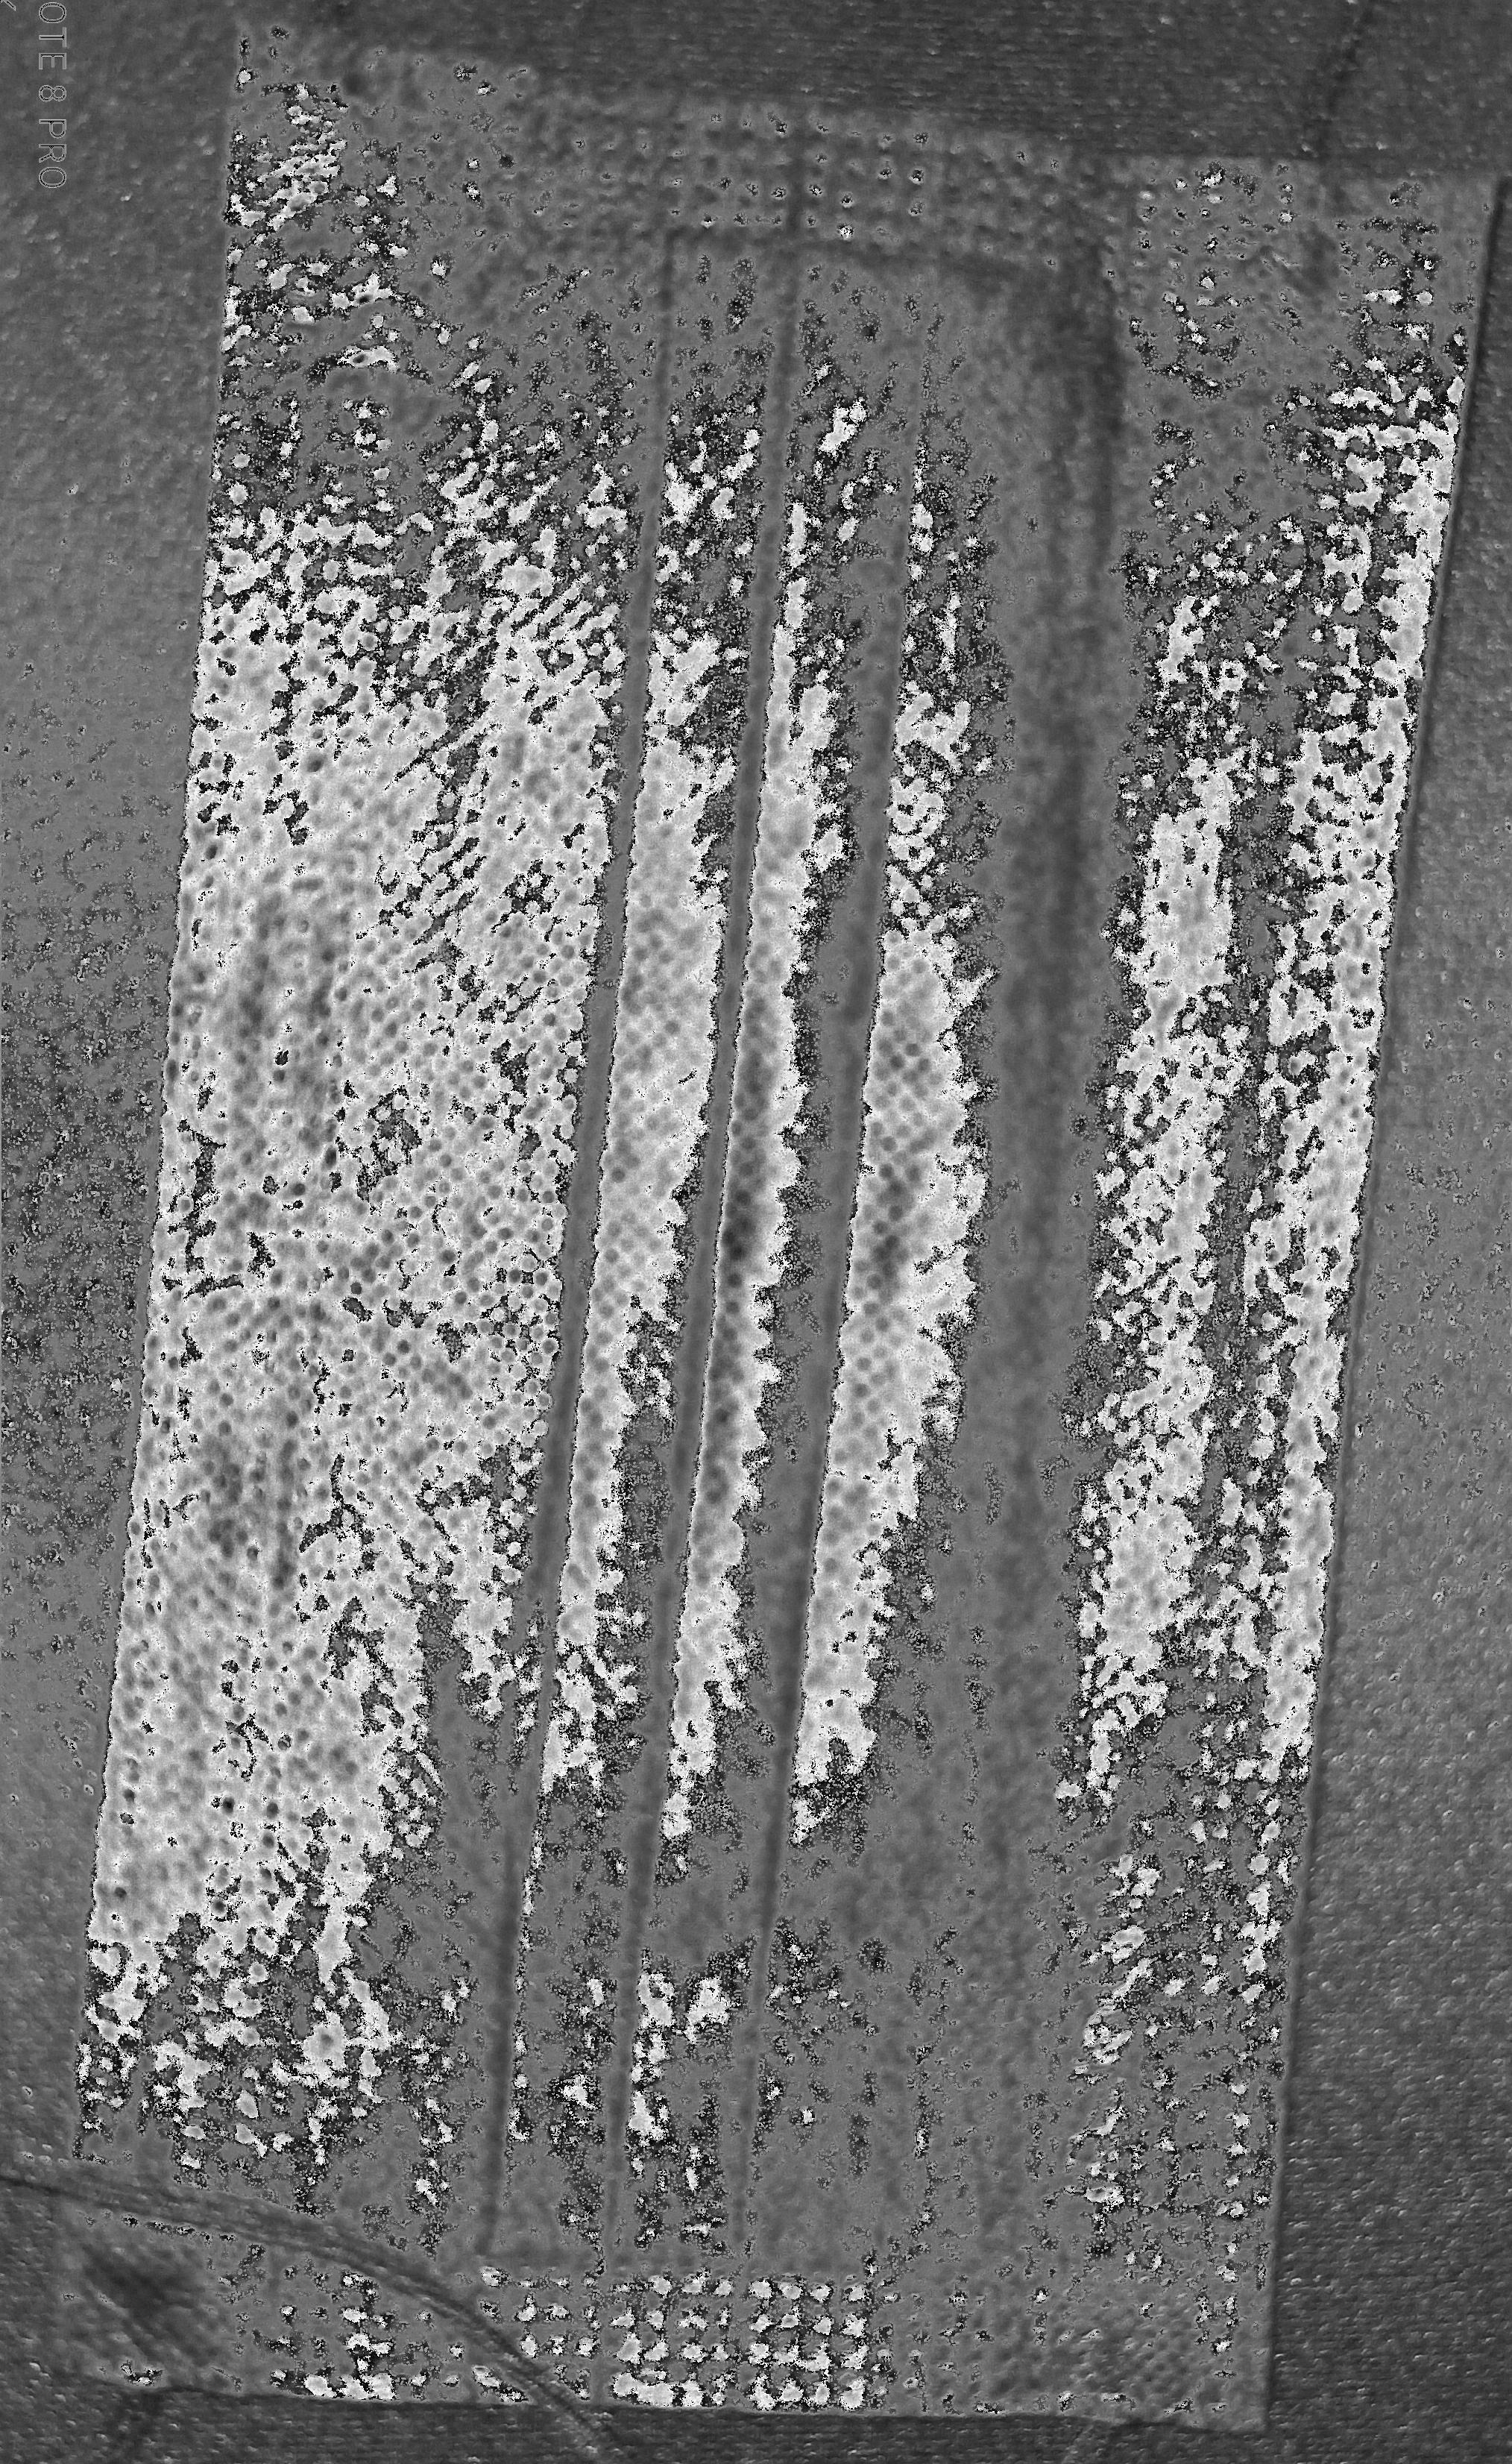Low GSM: (510, 301, 1054, 2232)
